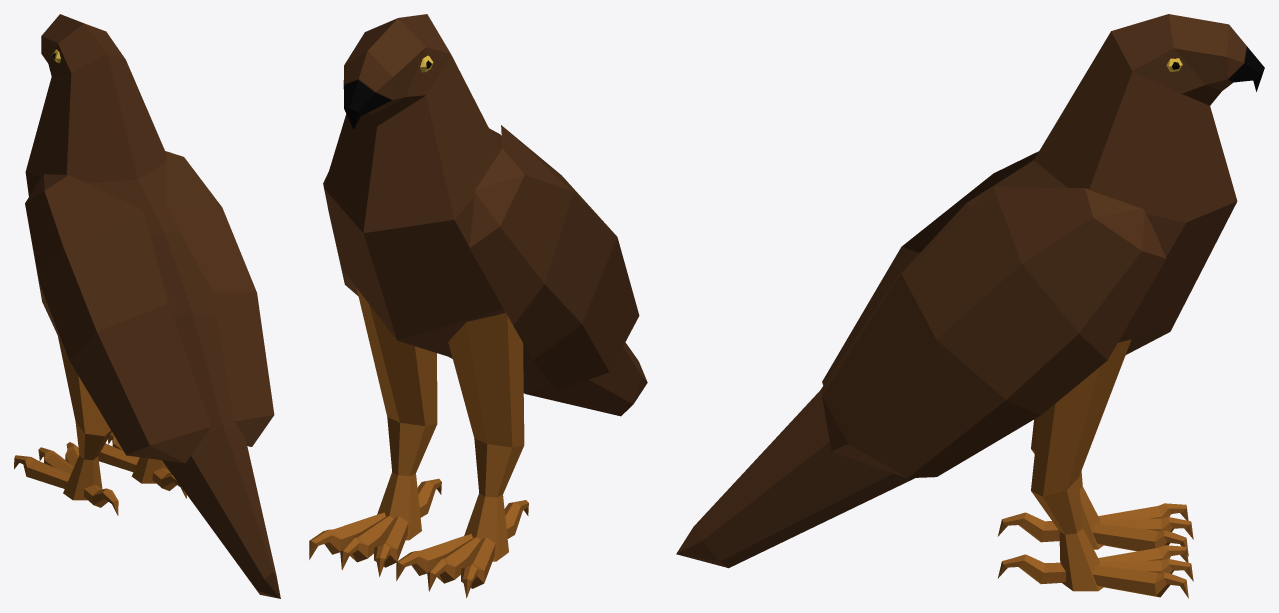
File: hawk.glb
3 renders of one model, left to right at view 1: azimuth 30°, elevation 25°; view 2: azimuth 150°, elevation 25°; view 3: azimuth 270°, elevation 25°, orthographic. The views are drawn at different scales.
Parts seen in each view (by area): view 1: Cylinder.005, Cylinder, Cylinder.004, Cylinder.003, Cylinder.002, Cylinder.001; view 2: Cylinder, Cylinder.005, Cylinder.004, Cylinder.003, Cylinder.001, Cylinder.002; view 3: Cylinder.005, Cylinder, Cylinder.004, Cylinder.003, Cylinder.002, Cylinder.001.
Boxes of the visible parts, bbox=[...] form: Cylinder.005: bbox=[25, 151, 274, 463]; Cylinder: bbox=[25, 14, 280, 598]; Cylinder.004: bbox=[58, 336, 169, 500]; Cylinder.003: bbox=[14, 442, 139, 488]; Cylinder.002: bbox=[84, 468, 186, 515]; Cylinder.001: bbox=[38, 432, 122, 473]; Cylinder: bbox=[324, 14, 647, 416]; Cylinder.005: bbox=[323, 125, 639, 390]; Cylinder.004: bbox=[356, 288, 524, 561]; Cylinder.003: bbox=[309, 512, 495, 598]; Cylinder.001: bbox=[340, 516, 480, 591]; Cylinder.002: bbox=[417, 478, 528, 538]; Cylinder.005: bbox=[822, 151, 1166, 478]; Cylinder: bbox=[676, 14, 1264, 568]; Cylinder.004: bbox=[1031, 339, 1131, 591]; Cylinder.003: bbox=[1092, 503, 1188, 598]; Cylinder.002: bbox=[998, 512, 1065, 584]; Cylinder.001: bbox=[1099, 517, 1193, 581].
Size of the model in its own units: 1.45 by 3.82 by 3.68.
5 materials, 1 textured.
